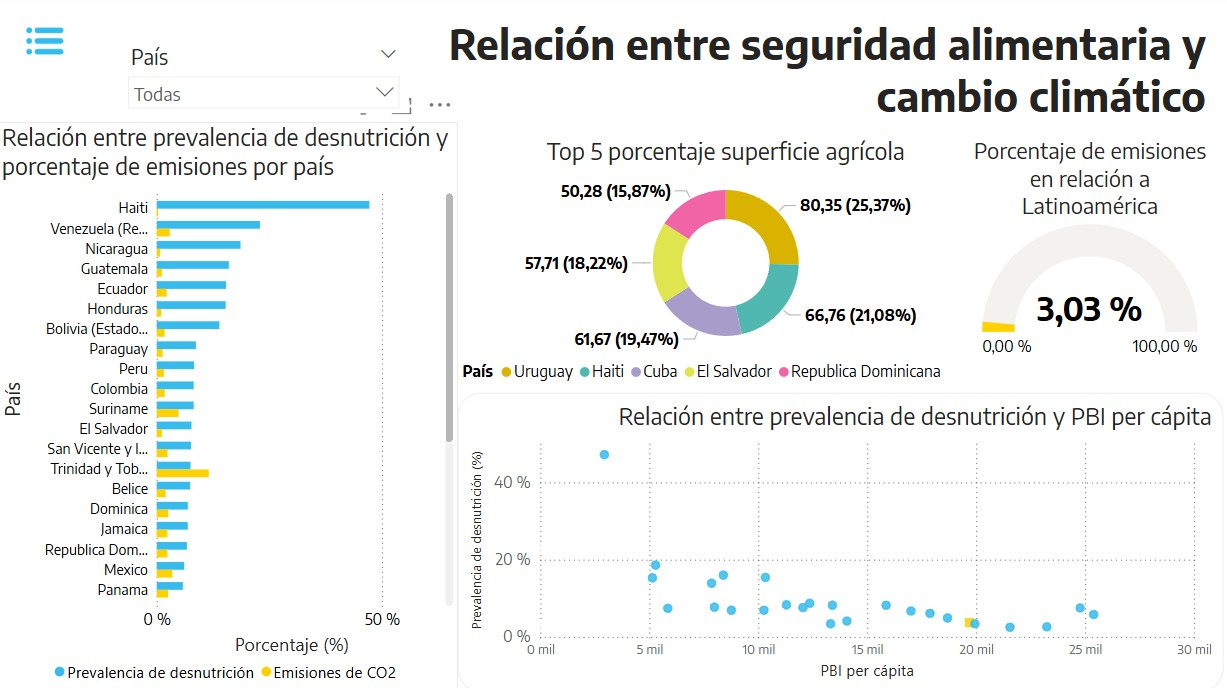

This screenshot's page, from the dashboard's own definition file:
{"tool":"powerbi","page":{"name":"Relación","canvas":[1280,720],"ordinal":3},"visuals":[{"type":"clusteredBarChart","title":"Relación entre prevalencia de desnutrición y porcentaje de emisiones por país","fields":{"Category":["Hoja2.Pais"],"Y":["Avg(worldbank.Desnutri_pais)","Avg(worldbank.Porc.Emis.CO2)"]},"box":[0,131.3,476.1,588.1],"z":0},{"type":"scatterChart","title":"Relación entre prevalencia de desnutrición y PBI per cápita","fields":{"Y":["Hoja2.Desnutri_pais"],"X":["Sum(Sheet1.PBI_percapita)"],"Series":["worldbank.Pais"]},"box":[476.1,410.4,791,309],"z":1000},{"type":"textbox","box":[425.4,19.4,828.4,126.9],"z":2000},{"type":"donutChart","title":"Top 5 porcentaje superficie agrícola","fields":{"Y":["Avg(Hoja2.Agric_sup)"],"Category":["Hoja2.Pais"]},"box":[476.1,146.3,553.7,264.2],"z":3000},{"type":"gauge","title":"Porcentaje de emisiones en relación a Latinoamérica","fields":{"Y":["Avg(Hoja2.Porc.Emis.CO2)"]},"box":[1003,146.3,250.7,237.3],"z":4000},{"type":"slicer","fields":{"Values":["worldbank.Pais"]},"box":[125.7,44.3,300,77.1],"z":5000},{"type":"image","box":[0,0,98.6,95.7],"z":6000}]}

Visuals, with their boxes on the page's 1280x720 design canvas (x1, y1, x2, y2). These are canvas units, not pixel positions in the 1227x688 screenshot, which may show the page scaled, cropped or inside an application window:
"Relación entre prevalencia de desnutrición y porcentaje de emisiones por país" clusteredBarChart: box=[0, 131, 476, 719]
"Relación entre prevalencia de desnutrición y PBI per cápita" scatterChart: box=[476, 410, 1267, 719]
textbox: box=[425, 19, 1254, 146]
"Top 5 porcentaje superficie agrícola" donutChart: box=[476, 146, 1030, 410]
"Porcentaje de emisiones en relación a Latinoamérica" gauge: box=[1003, 146, 1254, 384]
slicer - worldbank.Pais: box=[126, 44, 426, 121]
image: box=[0, 0, 99, 96]
